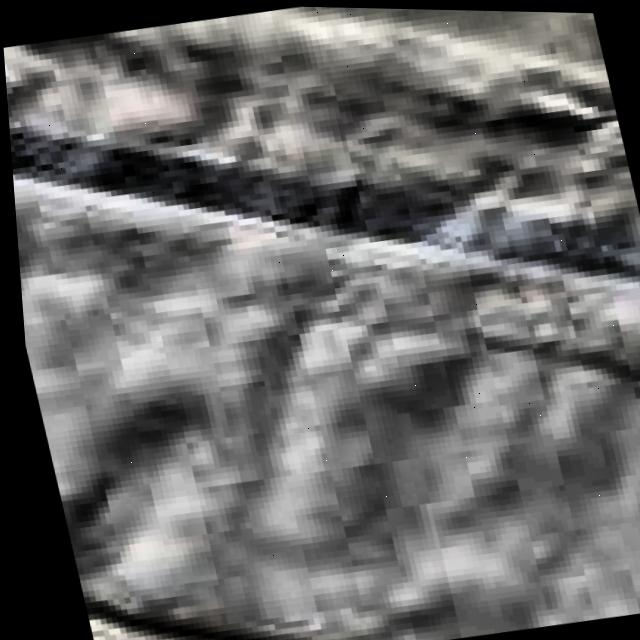paper: (3, 8, 640, 640)
